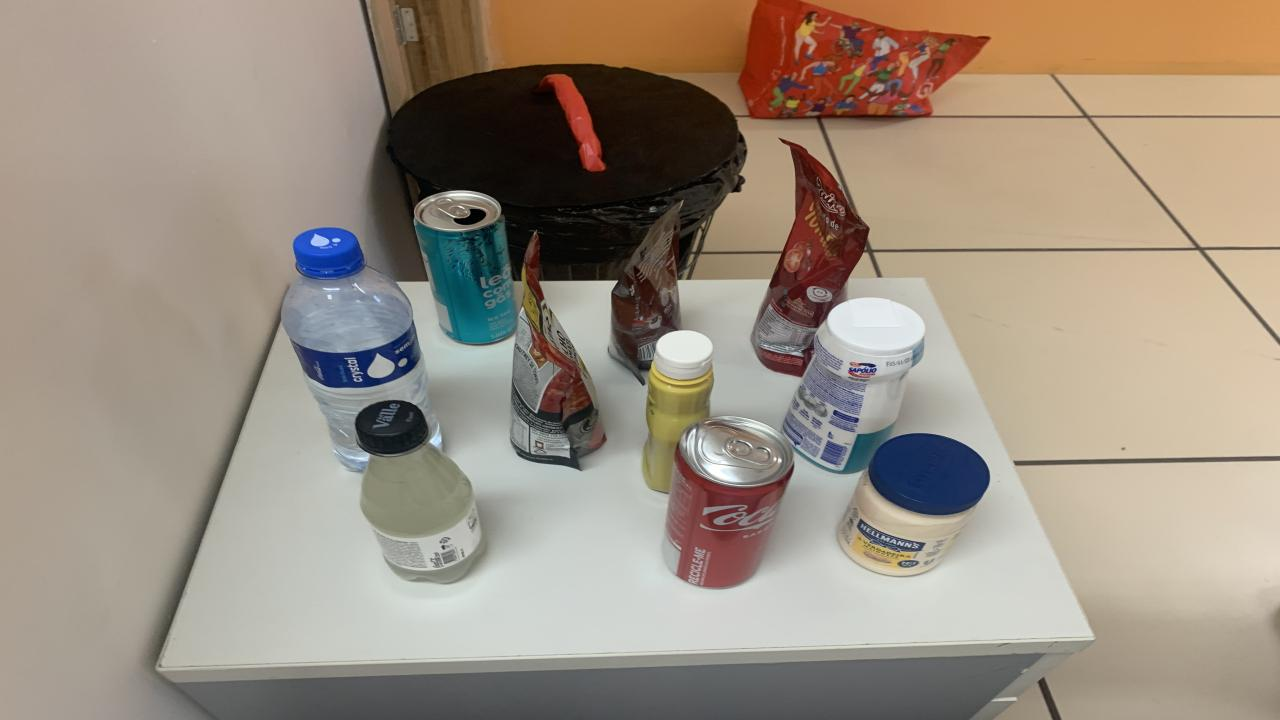Cleaner-Cleanup_Items: (782, 296, 925, 474)
Coffee-Pantry_Items: (608, 201, 682, 384)
Coke-Drinks: (662, 416, 795, 589)
Mayonnaise-Pantry_Items: (838, 433, 990, 576)
Mustard-Pantry_Items: (642, 330, 712, 493)
Soda-Drinks: (355, 399, 485, 583)
Tea-Drinks: (415, 189, 518, 345)
Tomato_Sauce-Pantry_Items: (750, 141, 868, 375), (510, 234, 605, 469)
Water_Bottle-Drinks: (282, 227, 440, 471)
